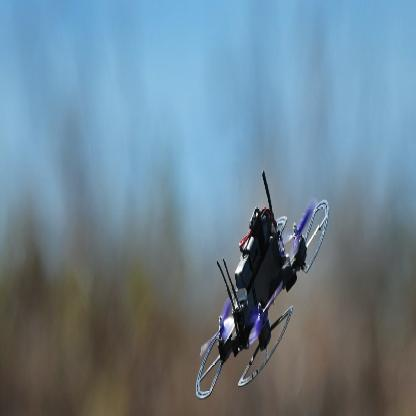drone: (190, 169, 341, 416)
